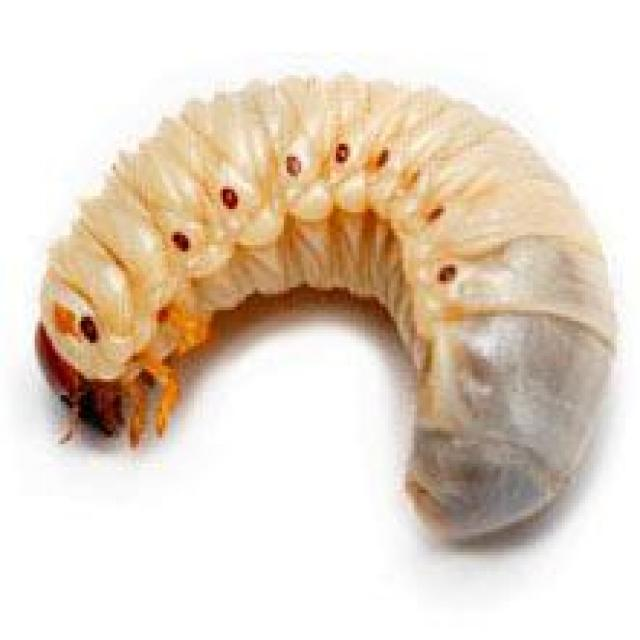Grub-Adult-: (27, 67, 625, 550)
